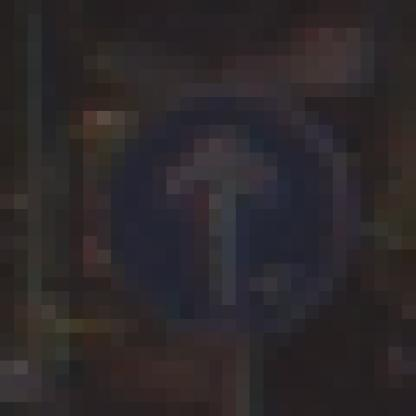AheadOnly: (70, 84, 334, 348)
